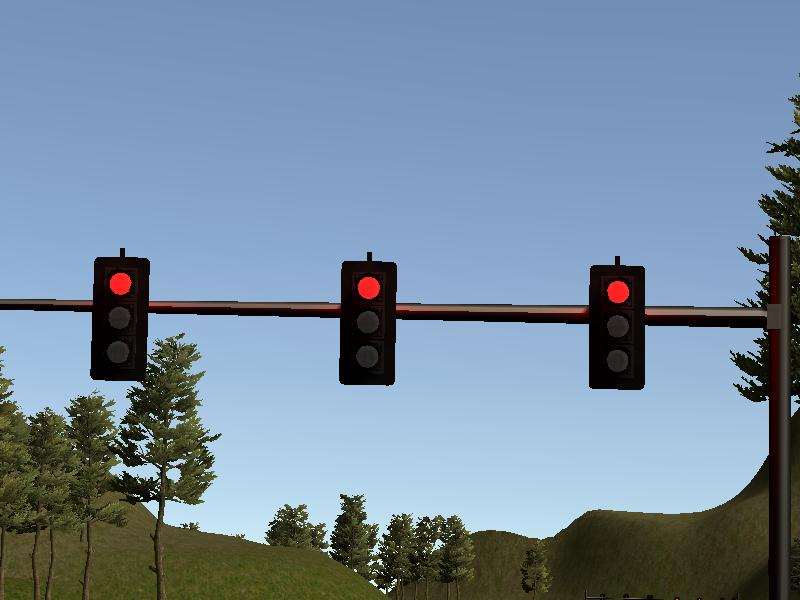Red: (341, 260, 396, 386), (589, 266, 645, 389), (94, 257, 146, 380)
